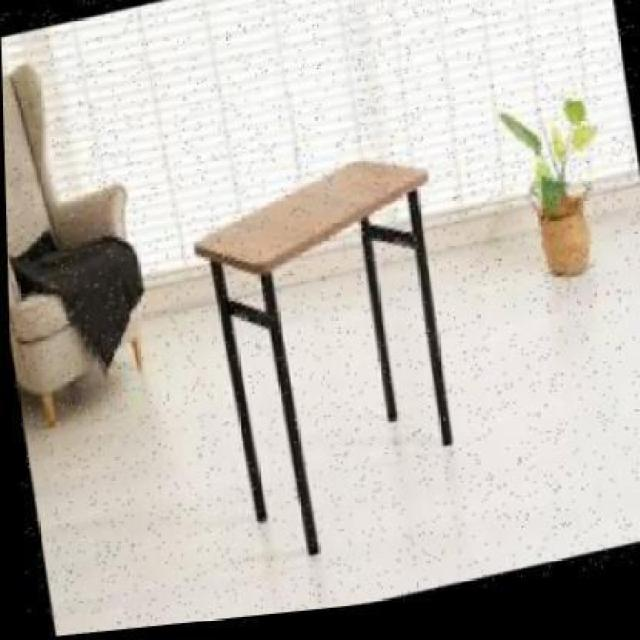tables: (192, 157, 454, 554)
